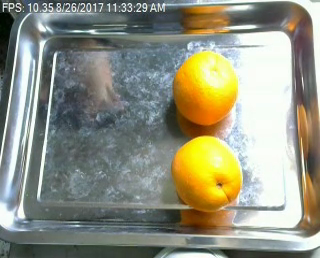Orange: (172, 136, 242, 212), (173, 50, 238, 125)
